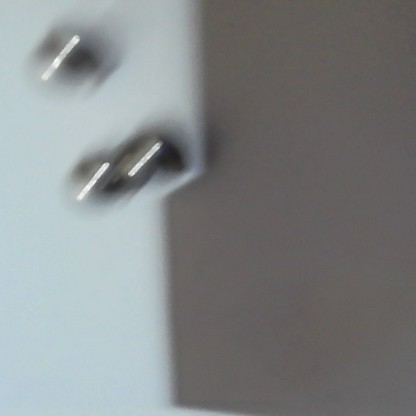ironball: (31, 17, 118, 97), (128, 116, 197, 188), (65, 141, 131, 216)
